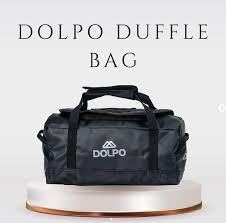bag: (28, 81, 199, 190)
